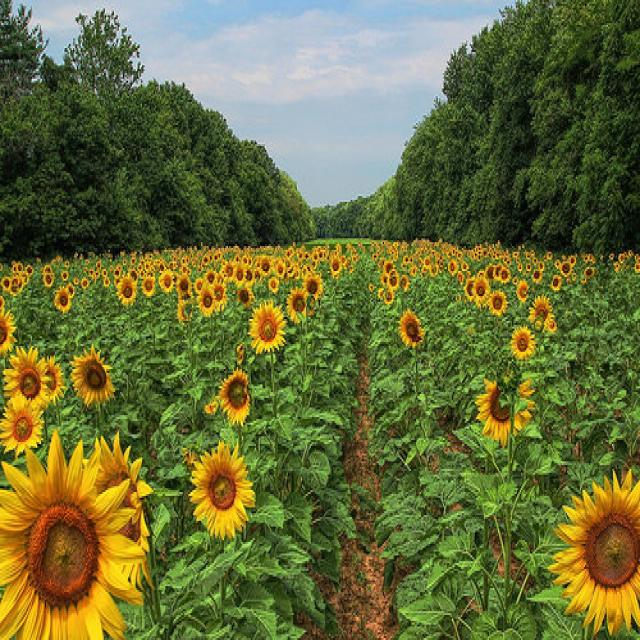sunflower: (0, 426, 152, 640), (541, 463, 640, 640), (81, 430, 156, 602), (185, 433, 257, 543), (476, 370, 542, 449), (0, 342, 51, 421), (67, 341, 120, 410), (0, 394, 47, 460), (244, 294, 288, 358), (217, 363, 250, 432), (396, 306, 427, 356), (509, 324, 538, 362), (528, 292, 556, 331), (0, 308, 19, 360), (290, 285, 314, 326), (195, 279, 218, 321), (208, 278, 230, 316), (302, 267, 326, 300), (116, 273, 138, 309), (488, 286, 508, 319), (52, 286, 74, 314), (471, 274, 490, 306), (237, 286, 258, 314), (177, 298, 193, 329), (140, 272, 157, 299), (175, 272, 191, 299), (158, 269, 175, 294), (515, 276, 529, 304), (232, 262, 247, 288), (461, 278, 477, 302), (482, 262, 497, 284), (243, 266, 256, 291), (234, 341, 248, 364), (557, 260, 573, 280), (221, 262, 235, 284), (342, 256, 357, 276), (398, 274, 412, 295), (492, 260, 505, 282), (274, 260, 287, 282), (382, 286, 396, 306), (382, 258, 396, 278), (388, 268, 400, 291), (11, 275, 24, 296), (548, 274, 562, 293), (267, 275, 281, 294), (258, 258, 272, 276), (500, 266, 512, 286), (447, 258, 459, 278), (531, 268, 544, 286), (330, 256, 343, 274), (284, 262, 297, 280), (429, 261, 439, 279), (42, 272, 54, 287), (584, 265, 596, 279), (409, 264, 419, 280), (380, 272, 389, 289), (20, 269, 29, 286), (200, 252, 210, 267), (1, 276, 11, 291), (25, 262, 34, 278), (142, 260, 152, 274), (178, 263, 188, 277), (422, 256, 431, 271), (83, 275, 90, 294), (240, 253, 250, 266), (112, 268, 122, 280), (95, 258, 102, 274), (284, 248, 292, 261), (368, 283, 377, 294), (102, 278, 111, 289), (158, 260, 165, 274), (402, 255, 410, 266), (303, 251, 311, 262), (233, 252, 241, 263), (168, 259, 175, 271), (61, 270, 68, 282), (17, 260, 23, 274), (532, 255, 539, 266), (318, 250, 325, 261), (312, 251, 319, 262), (296, 249, 303, 260), (0, 294, 5, 309), (102, 268, 108, 280), (525, 262, 532, 272), (462, 261, 469, 271), (11, 263, 18, 273), (64, 259, 70, 270), (372, 252, 379, 261), (212, 253, 219, 262), (121, 259, 129, 266), (180, 257, 186, 266), (130, 257, 136, 266), (0, 262, 3, 272)
